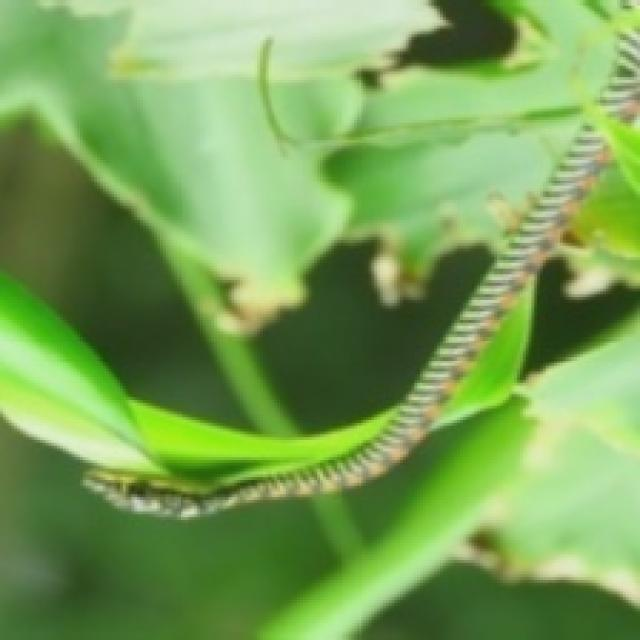paradise tree snake: (83, 0, 637, 517), (326, 0, 580, 154)
